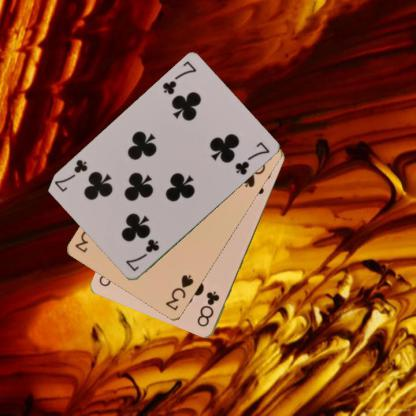3s: (163, 272, 195, 312)
7c: (160, 58, 198, 96), (123, 237, 161, 273)
8c: (195, 289, 221, 328)
